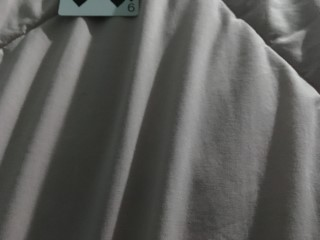NineOfSpades: (57, 1, 139, 16)
